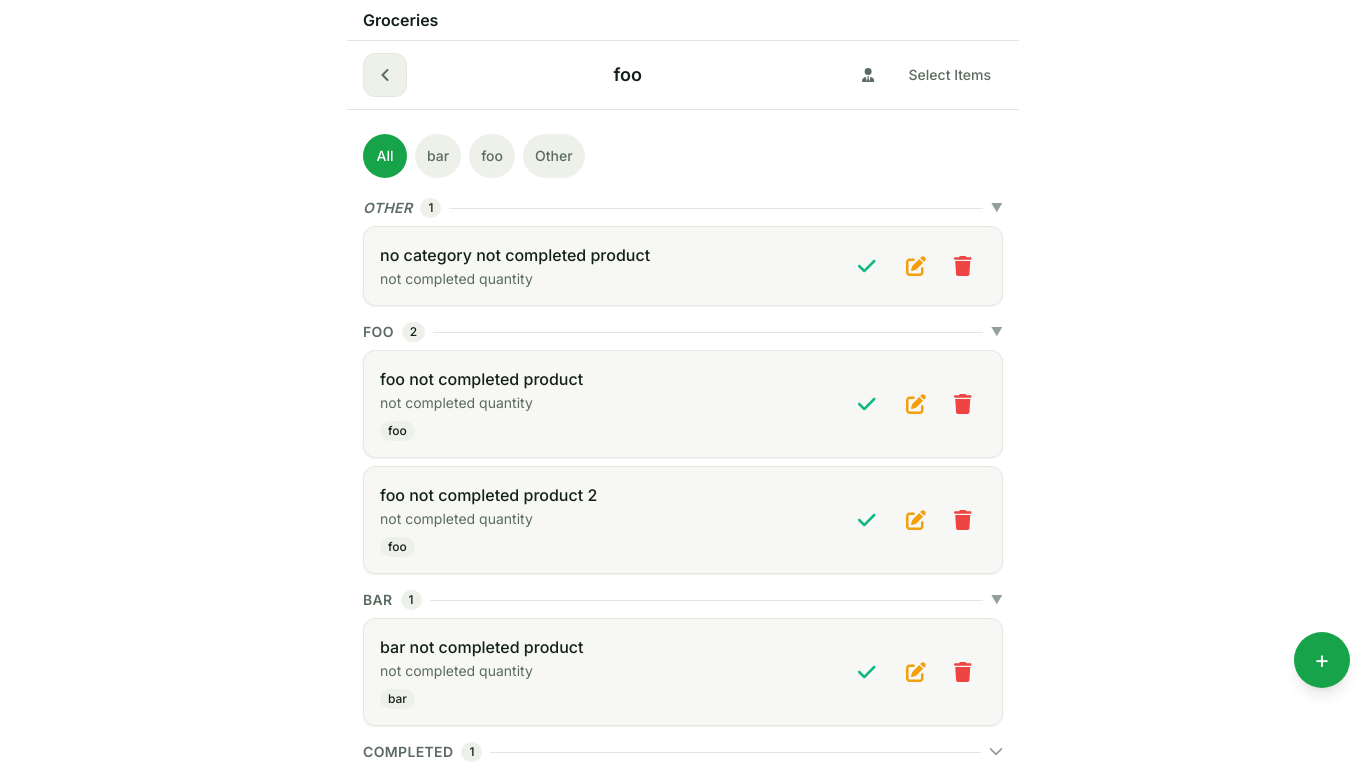
ListContainer › Add item FAB and modal › shows FAB with modal closed in building session mode until FAB click
Click the button with test id "list-add-fab": (1322, 660) [1294, 632, 1350, 688]
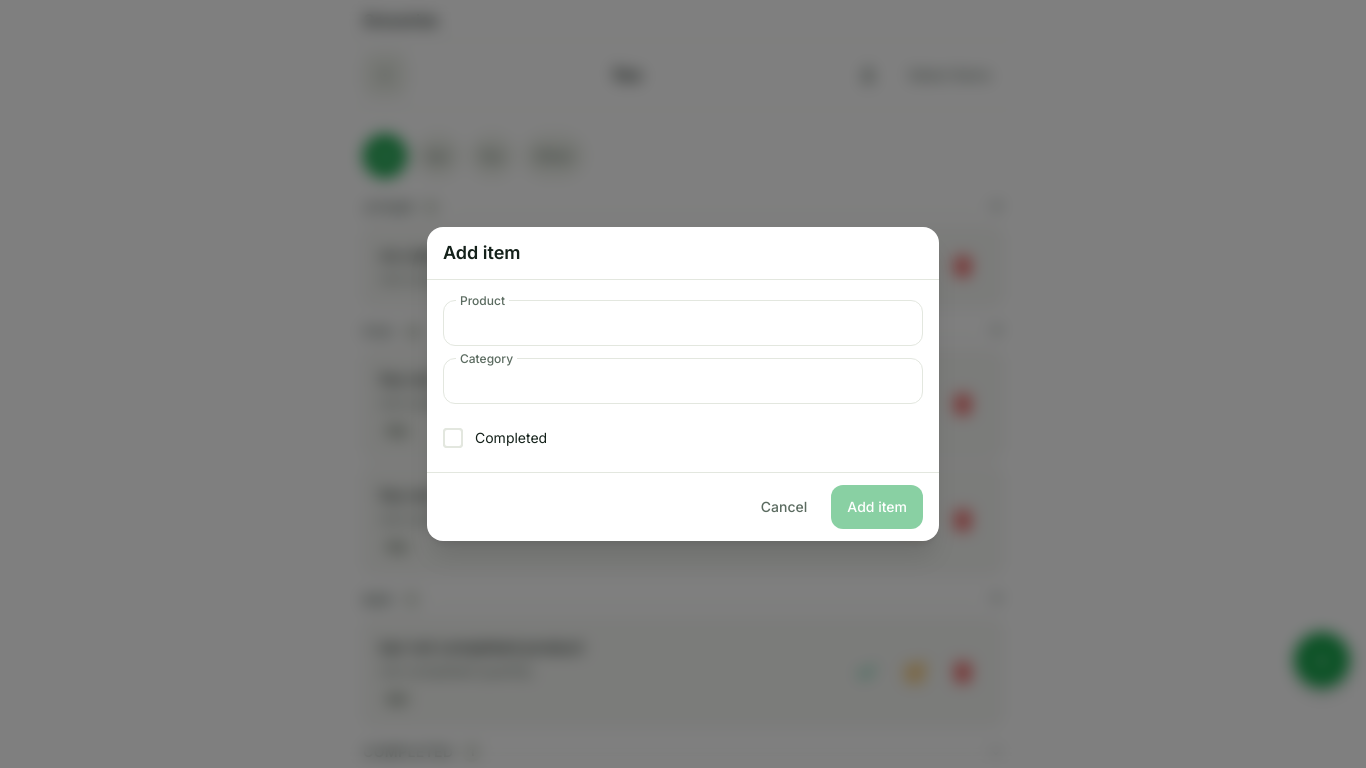
Check: the element with test id "add-list-item-modal" is shown, box [427, 227, 939, 541]
